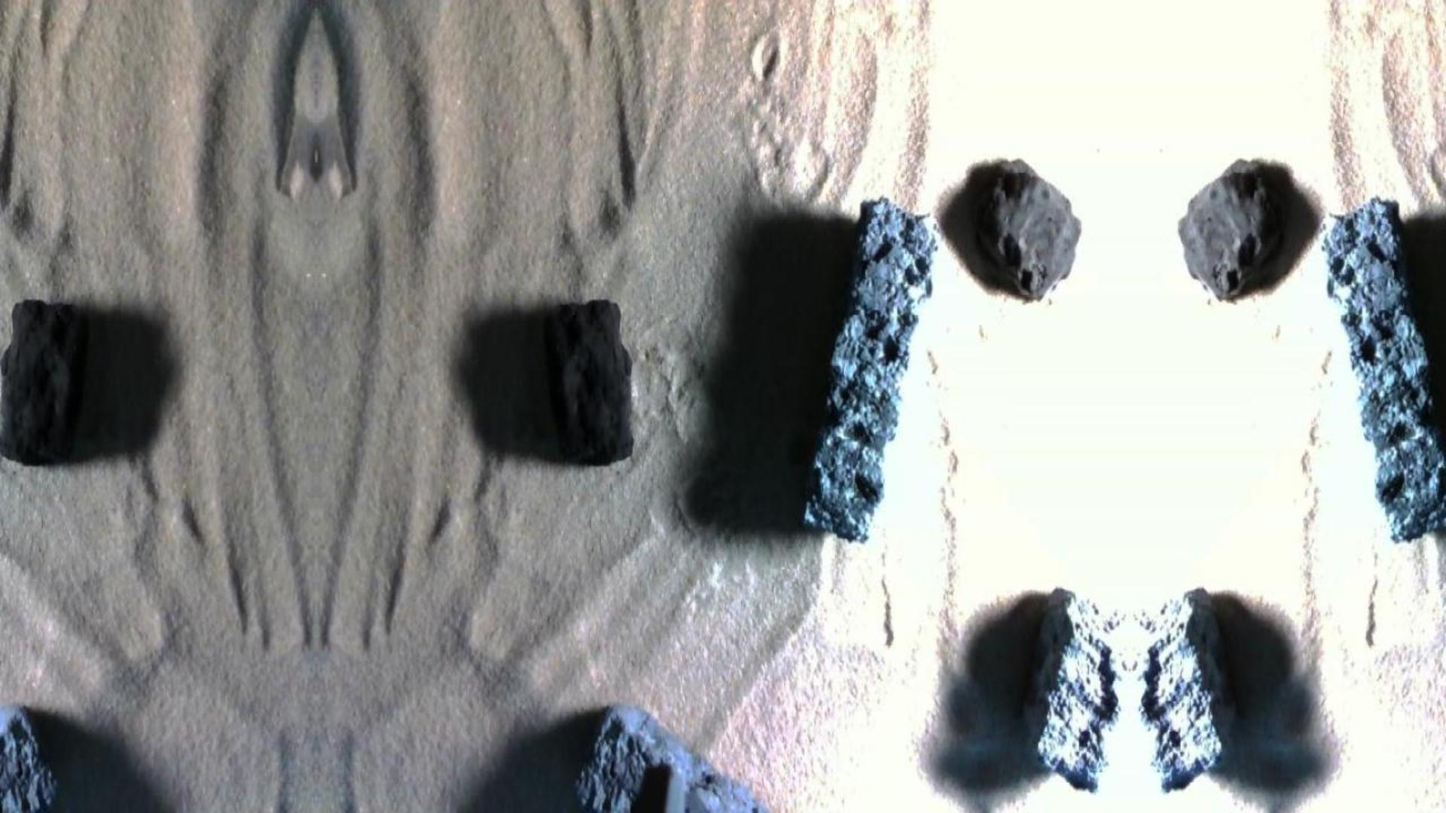rock: (804, 198, 937, 541), (1323, 199, 1445, 541), (576, 706, 768, 812), (1034, 588, 1117, 790), (1141, 588, 1222, 790), (976, 159, 1080, 300), (1178, 160, 1281, 299), (546, 300, 631, 464), (0, 300, 85, 464), (0, 706, 55, 812)
